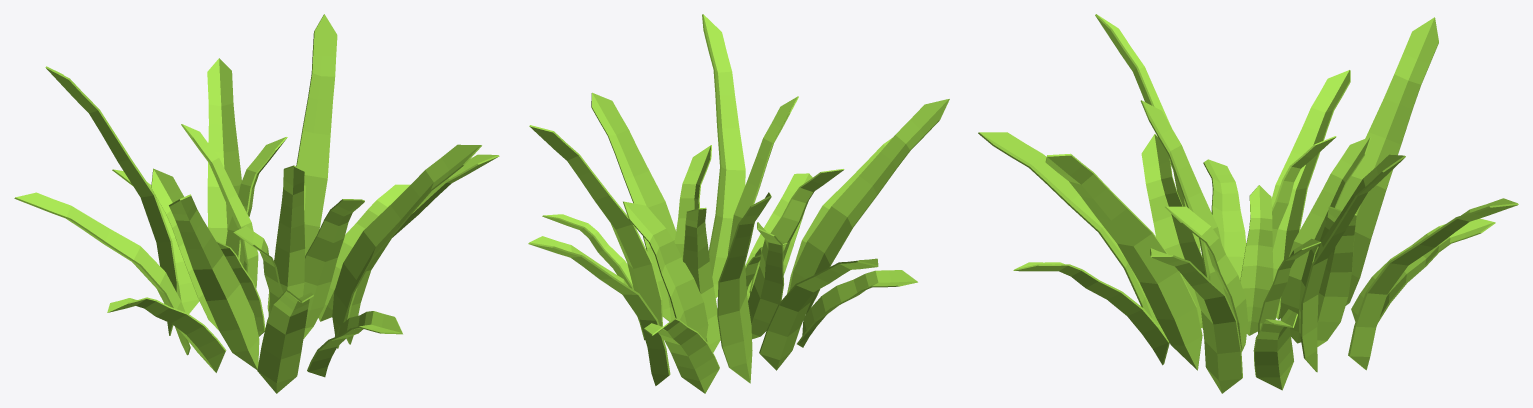
File: LightBigPatch.fbx
The picture shows the model from 3 angles, left to right: view 1: azimuth 30°, elevation 25°; view 2: azimuth 150°, elevation 25°; view 3: azimuth 270°, elevation 25°; orthographic projection. The views are drawn at different scales.
Parts seen in each view (by area): view 1: light big patch; view 2: light big patch; view 3: light big patch.
Part boxes in pixels (x1,y1,x2,y2): light big patch: (14, 14, 499, 393); light big patch: (528, 14, 949, 393); light big patch: (978, 14, 1518, 393).
Bounding box in the file's own units: 273 × 243 × 153.
